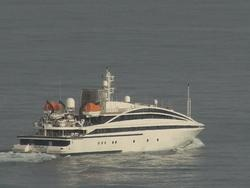yacht: (19, 67, 208, 156)
